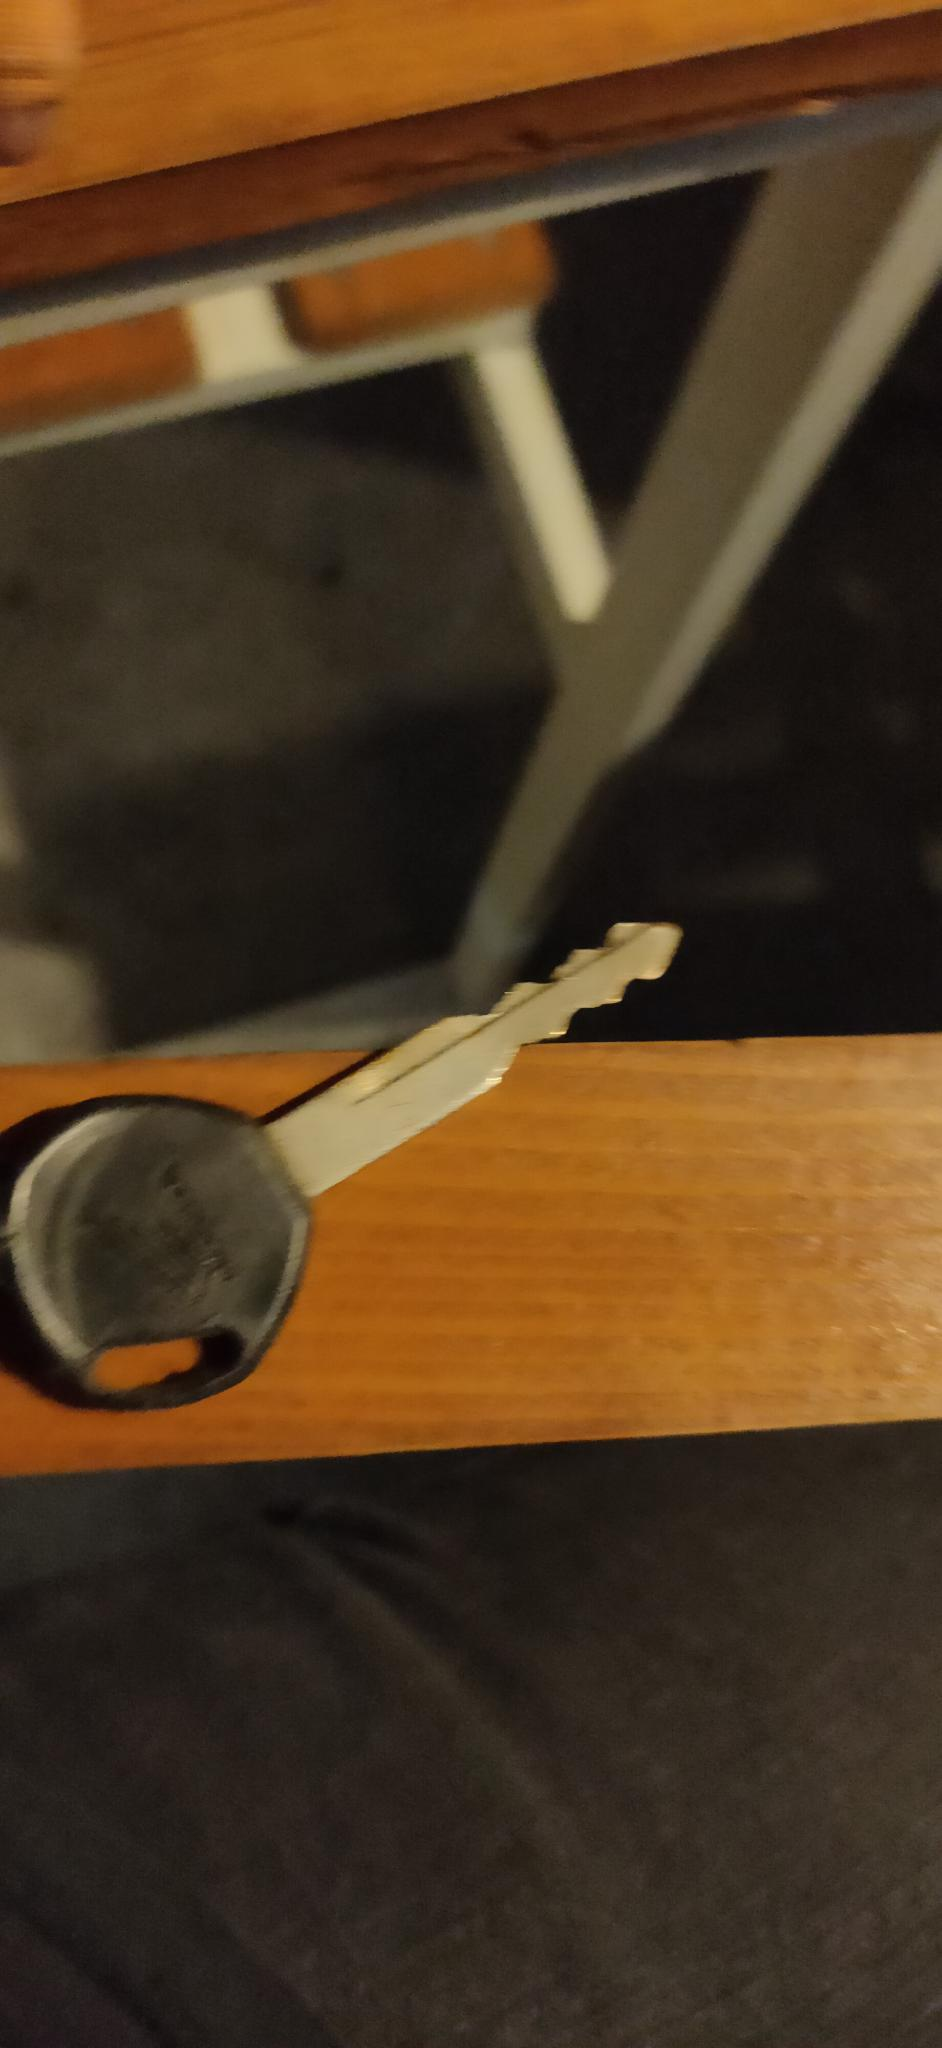keys: (0, 892, 703, 1445)
